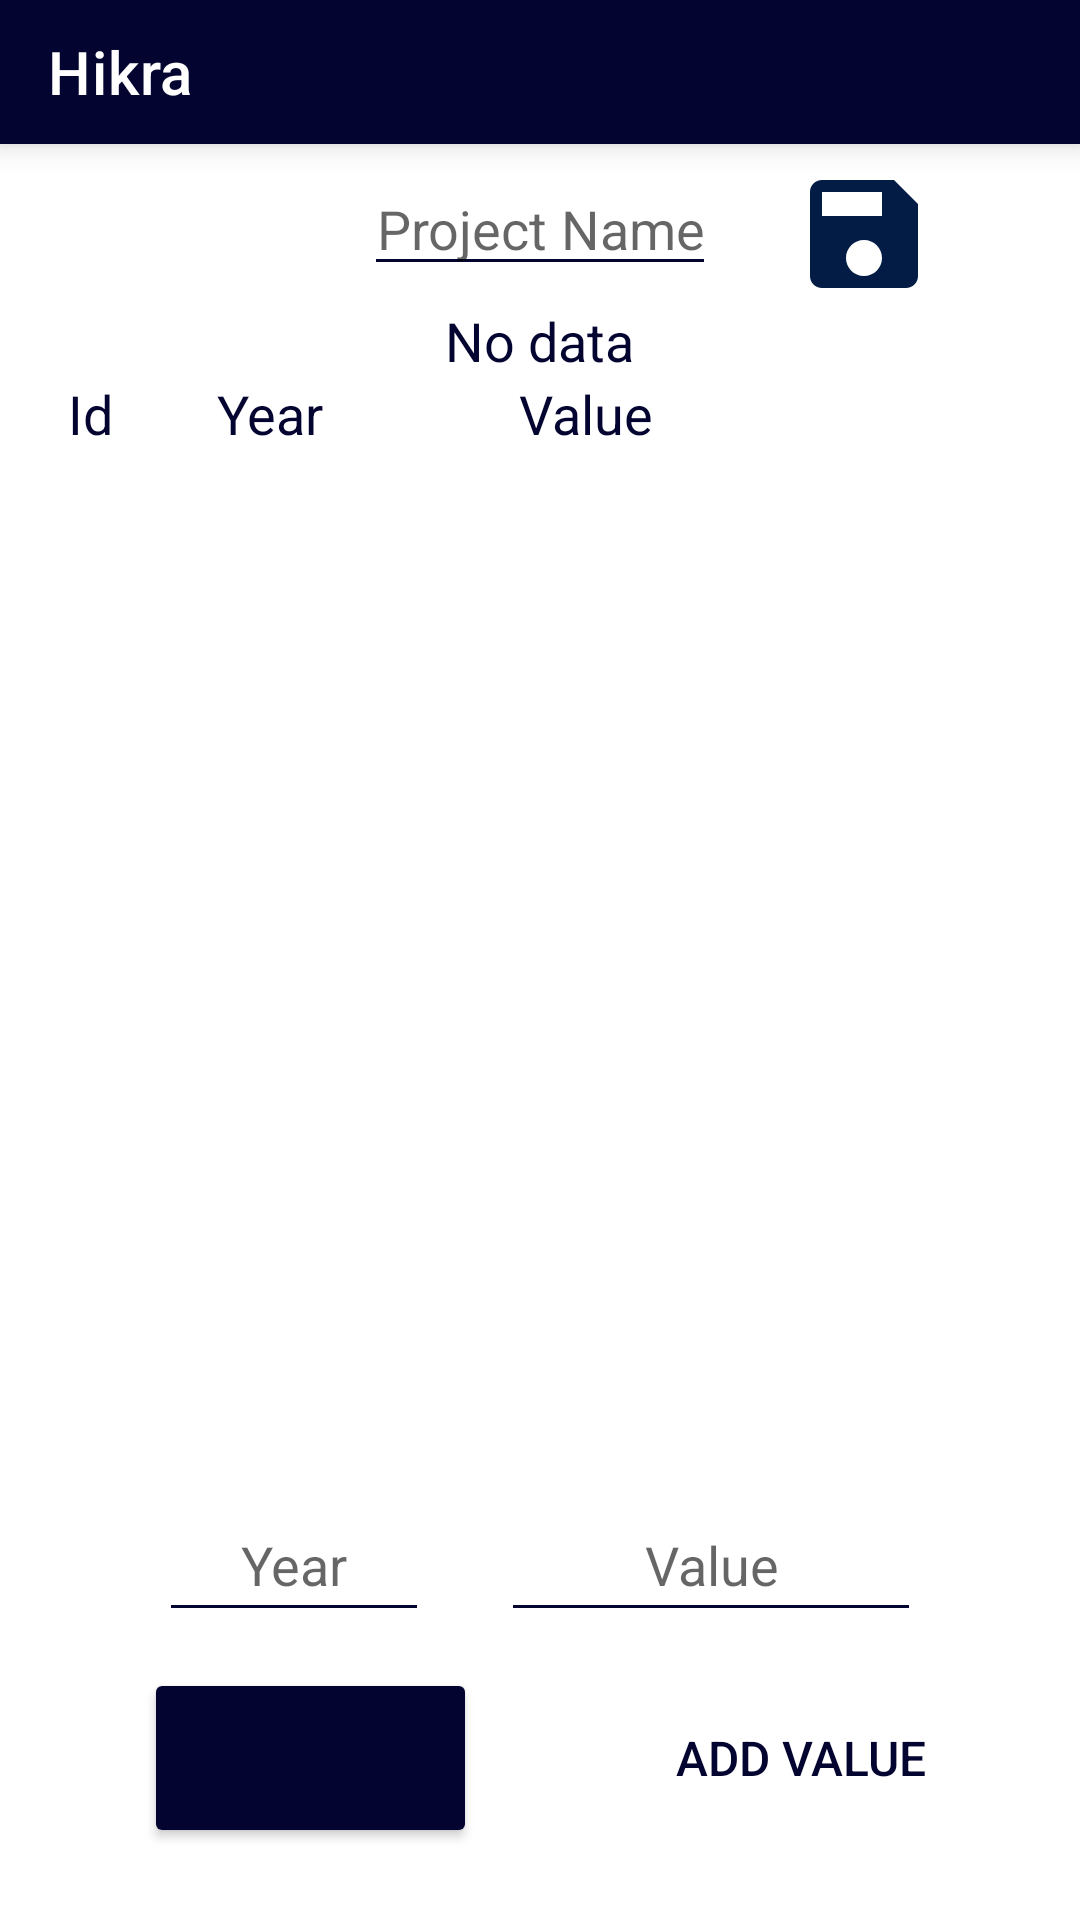

Point at icon controls on the screen. Image size 1080px×1920px, points as [x,y].
save: [864,234]
